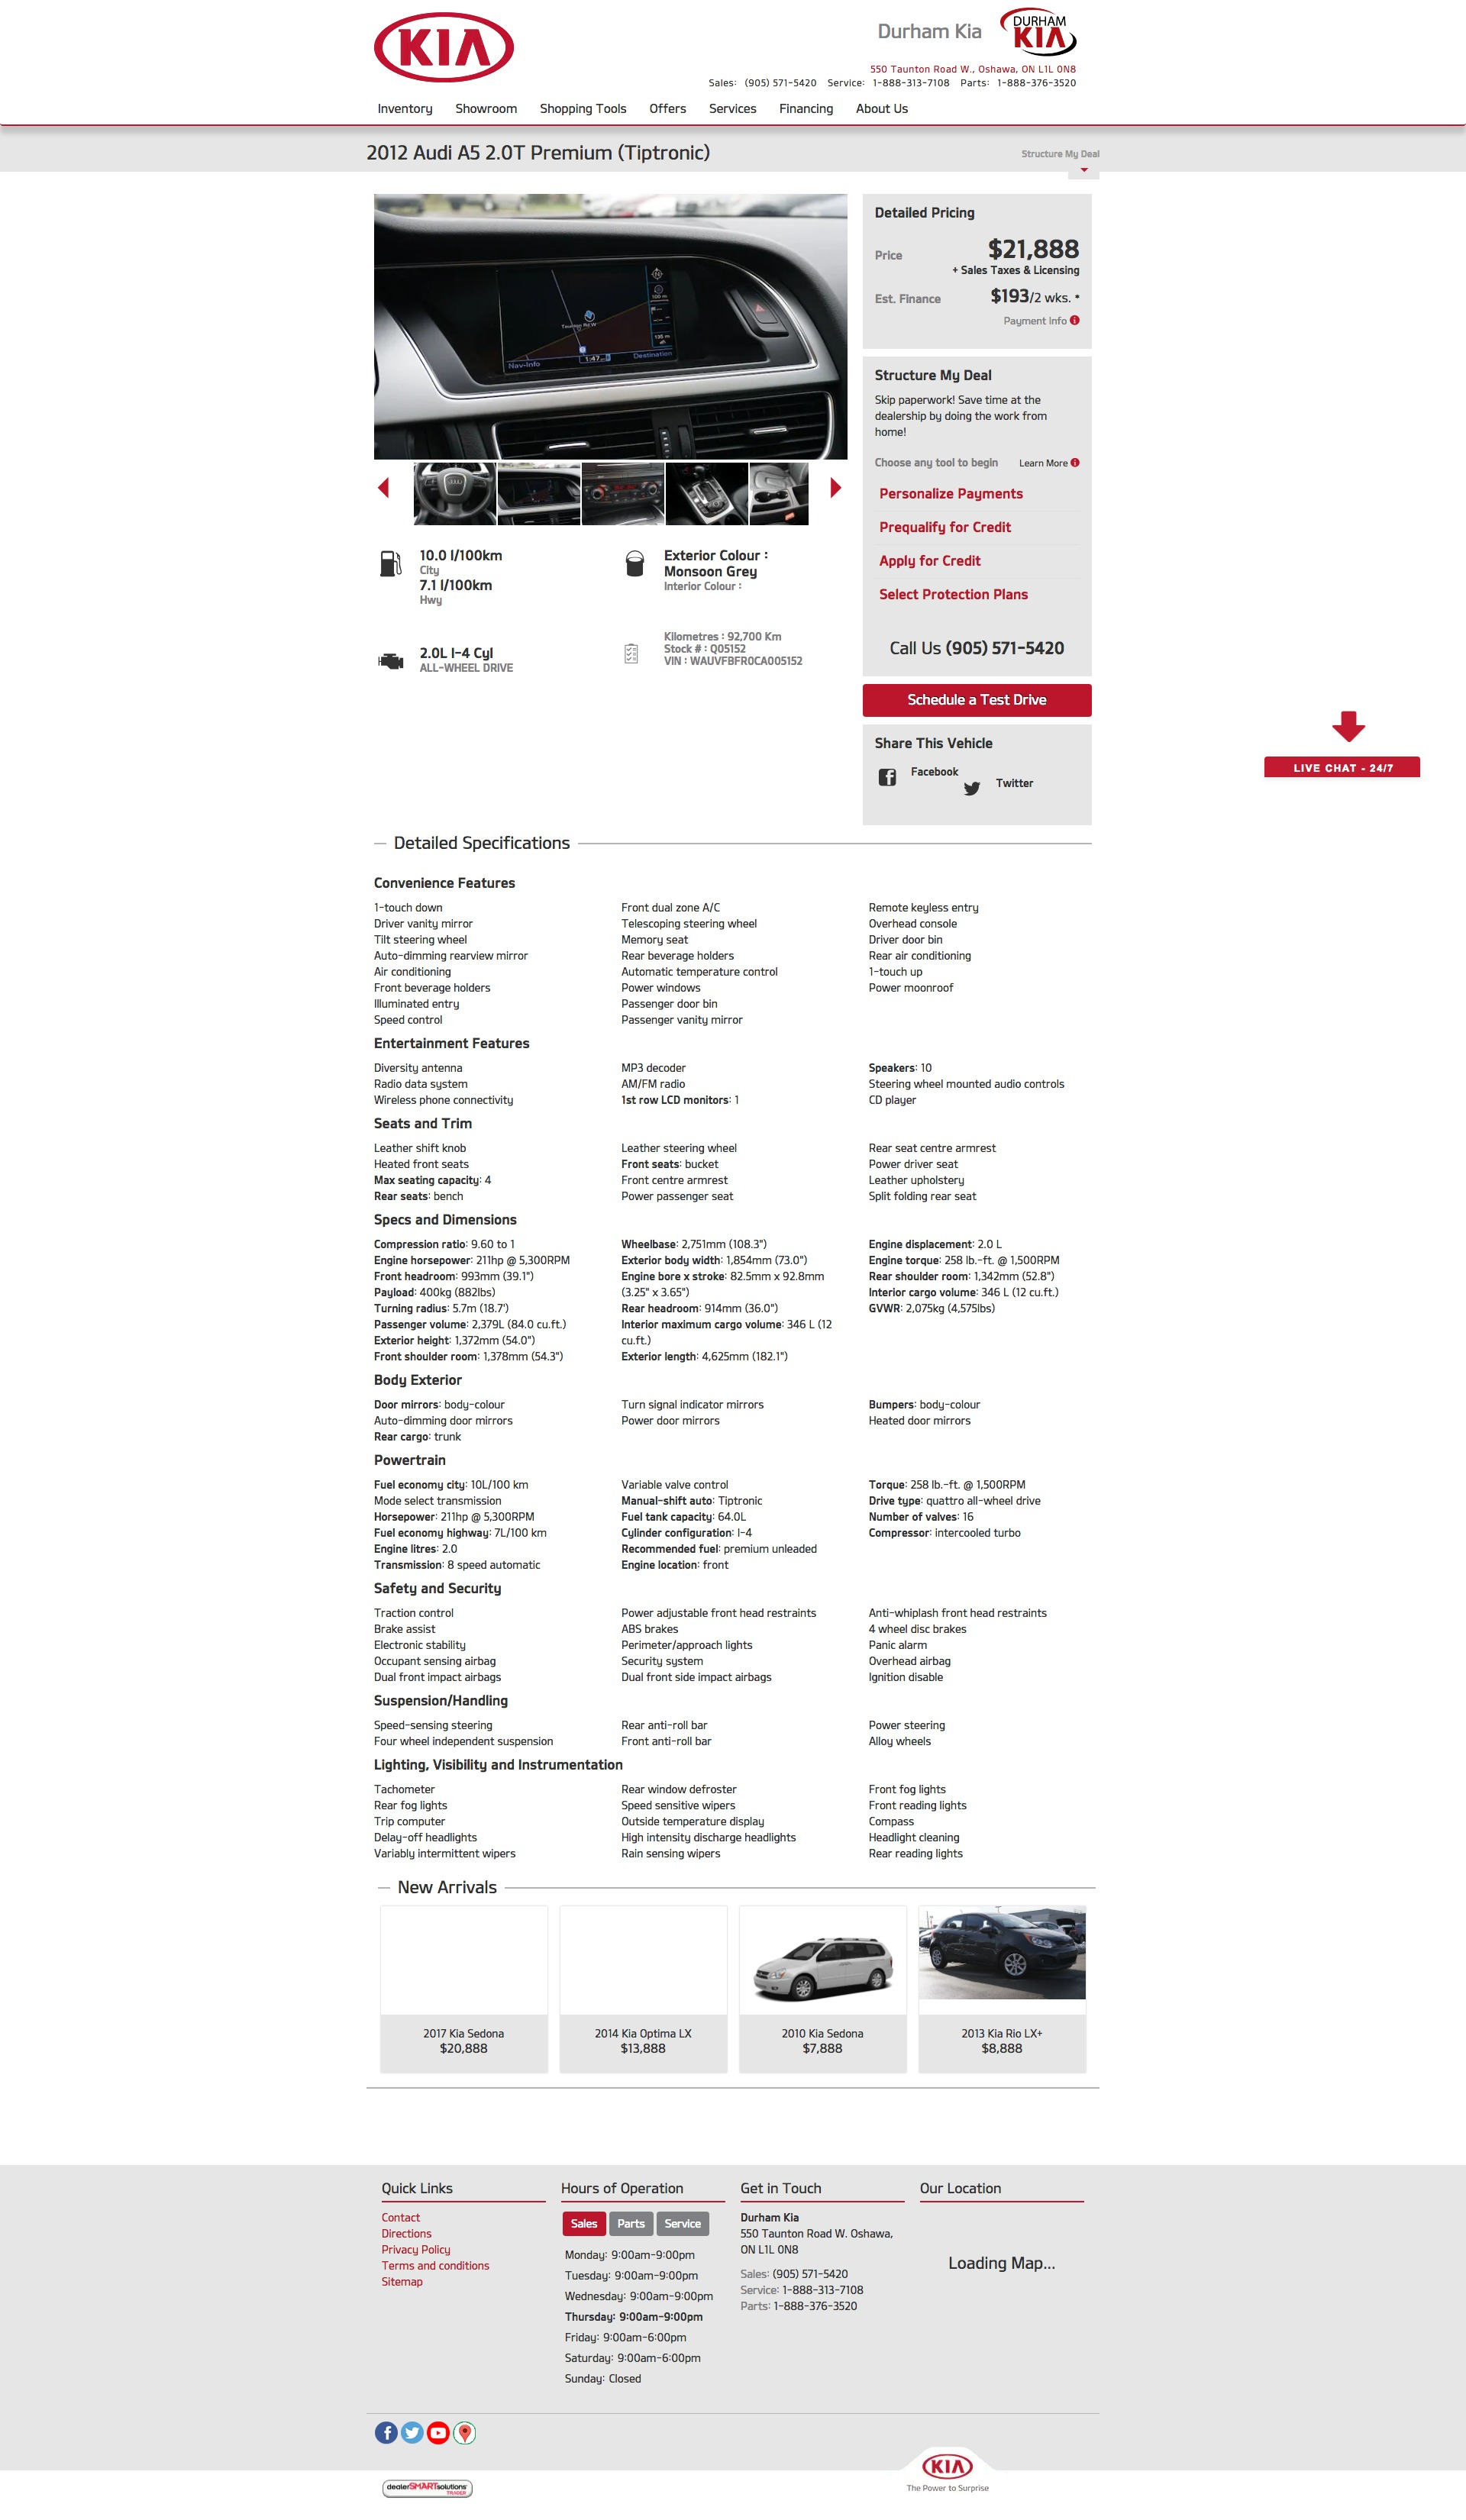car: (831, 478, 843, 501)
